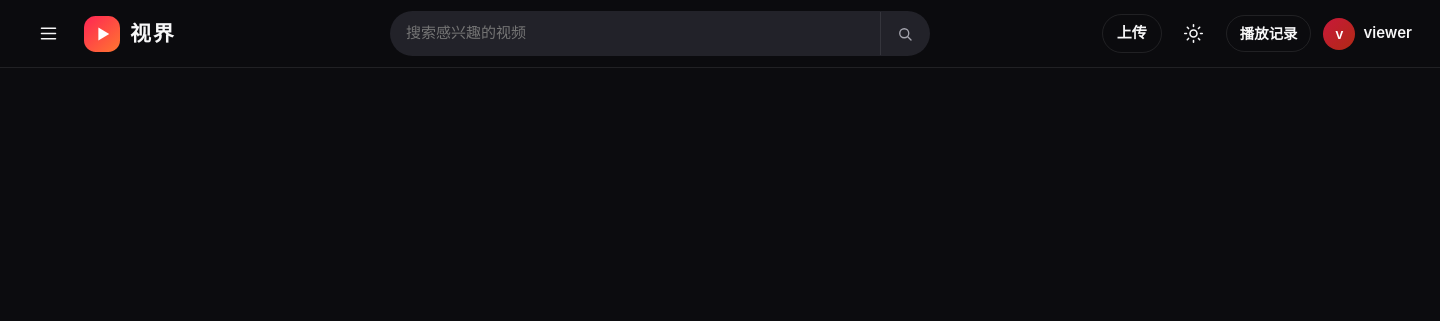
Test: AppHeader watch history dropdown › renders thumbnail images and a placeholder for records without thumbnails
Hover over the element with class "app-header__history" at (1269,38), box [1226,15,1312,62]
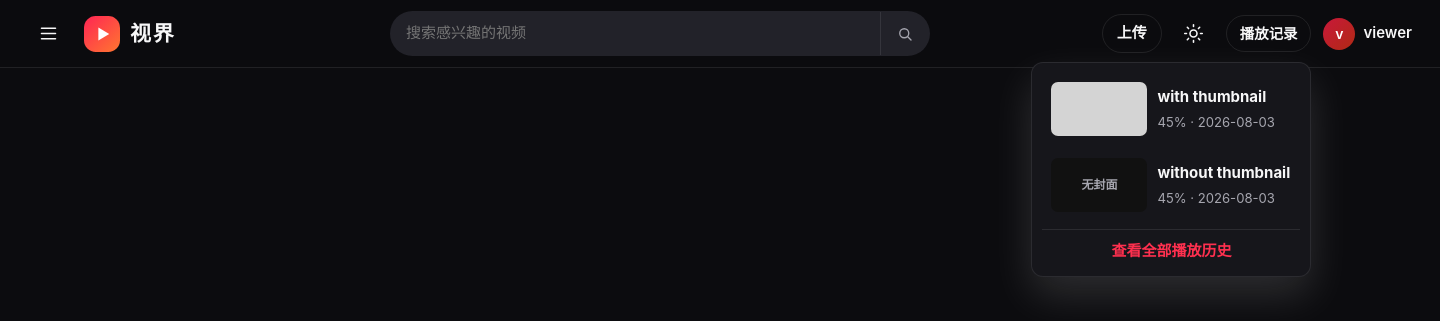
Expected: the text "无封面" is shown, [1081,177,1117,192]
